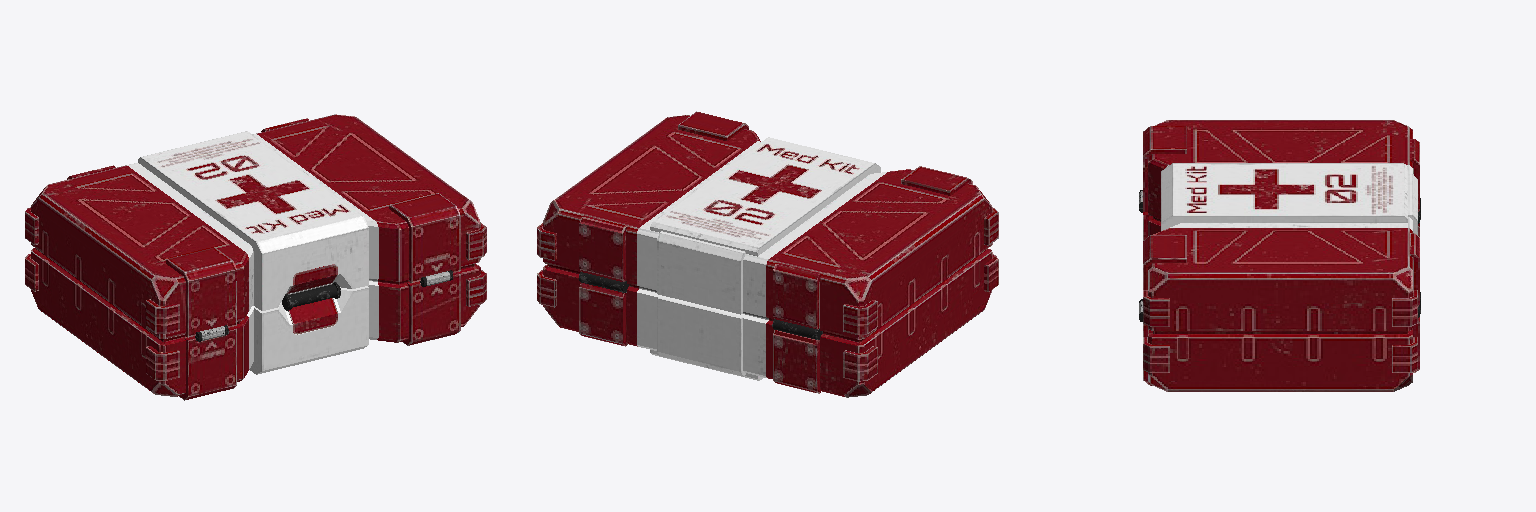
3 views of the same model, side by side, from view 1: azimuth 30°, elevation 25°; view 2: azimuth 150°, elevation 25°; view 3: azimuth 270°, elevation 25° (orthographic).
Parts seen in each view (by area): view 1: Cube_low, Cube_Plate_low, Cube_Plate.001_low, Cube_Plate.002_low, Cube_Plate_m1_low, Cylinder.001_low; view 2: Cube_low, Cube_Plate_low, Cube_Plate.003_low, Cube_Plate.004_low, Cube_Plate.002_low, Cube_Plate.001_low, Cylinder_low; view 3: Cube_low, Cube_Plate_low, Cube_Plate.002_low, Cube_Plate.001_low, Cube_Plate.004_low.
Part boxes in pixels (x1,y1,x2,y2): Cube_low: (31, 114, 480, 396); Cube_Plate_low: (138, 131, 368, 374); Cube_Plate.001_low: (166, 193, 460, 400); Cube_Plate.002_low: (25, 207, 486, 380); Cube_Plate_m1_low: (287, 264, 337, 334); Cylinder.001_low: (282, 282, 340, 310); Cube_low: (543, 115, 992, 397); Cube_Plate_low: (650, 137, 880, 380); Cube_Plate.003_low: (657, 231, 745, 376); Cube_Plate.004_low: (579, 215, 820, 393); Cube_Plate.002_low: (537, 208, 998, 381); Cube_Plate.001_low: (678, 111, 972, 195); Cylinder_low: (579, 272, 822, 339); Cube_low: (1148, 120, 1412, 391); Cube_Plate_low: (1161, 163, 1407, 230); Cube_Plate.002_low: (1143, 290, 1417, 372); Cube_Plate.001_low: (1143, 126, 1186, 385); Cube_Plate.004_low: (1410, 139, 1419, 372).
Bounding box in the file's own units: 5.76 × 2.21 × 4.24.
Materials: 3 (3 with a texture image).